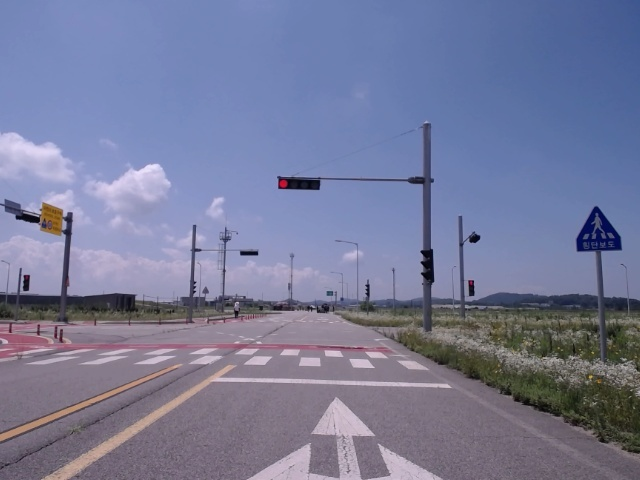red_4: (278, 179, 320, 190)
